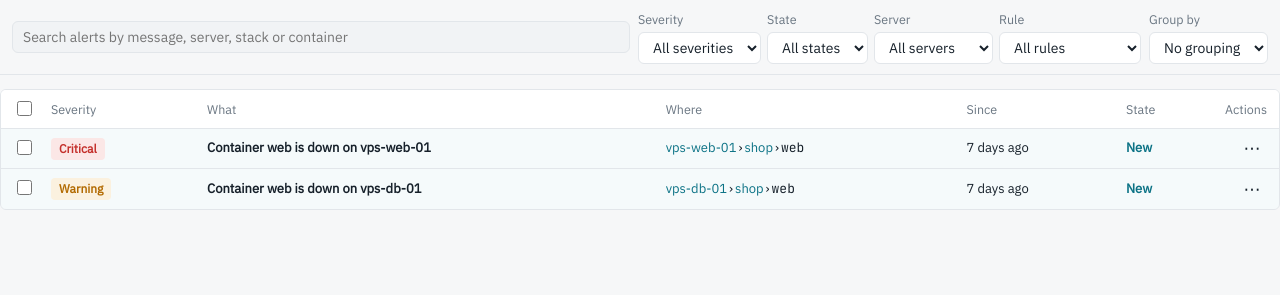
Inbox › groups by server with severity counts
Select "Server" in the dropdown labelled "Group by": (1208, 48) [1149,32,1268,64]
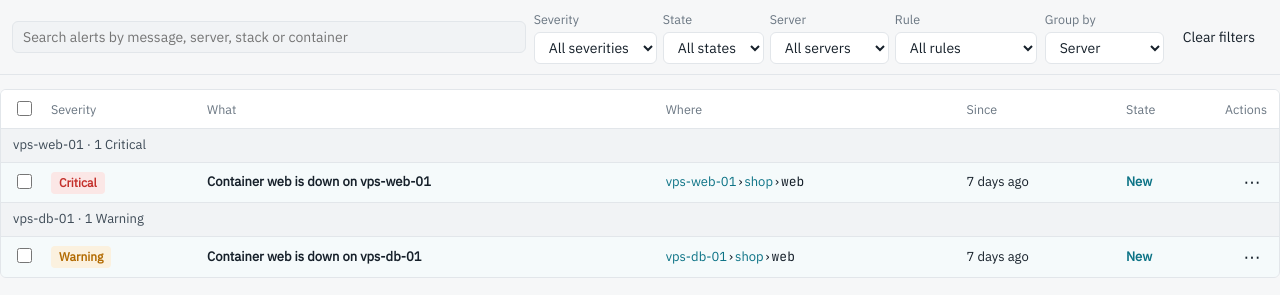
Expected: the text "vps-web-01 · 1 Critical" is shown, [1,129,1279,163]
Expected: the text "vps-db-01 · 1 Warning" is shown, [1,203,1279,237]
